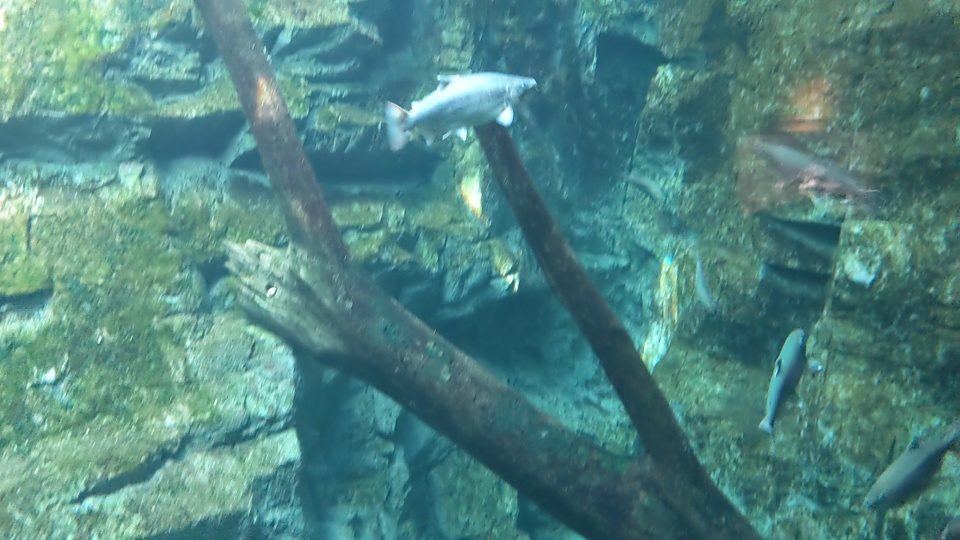Fish: (386, 66, 541, 147), (734, 134, 871, 208), (856, 416, 960, 511), (761, 336, 810, 441), (685, 246, 720, 317), (623, 165, 667, 205)
